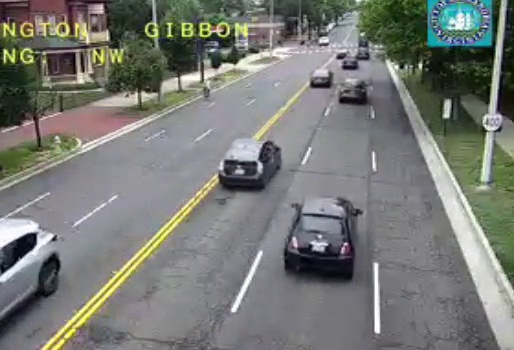car: (283, 198, 355, 268), (218, 139, 280, 187), (338, 79, 366, 101), (310, 69, 332, 87)
